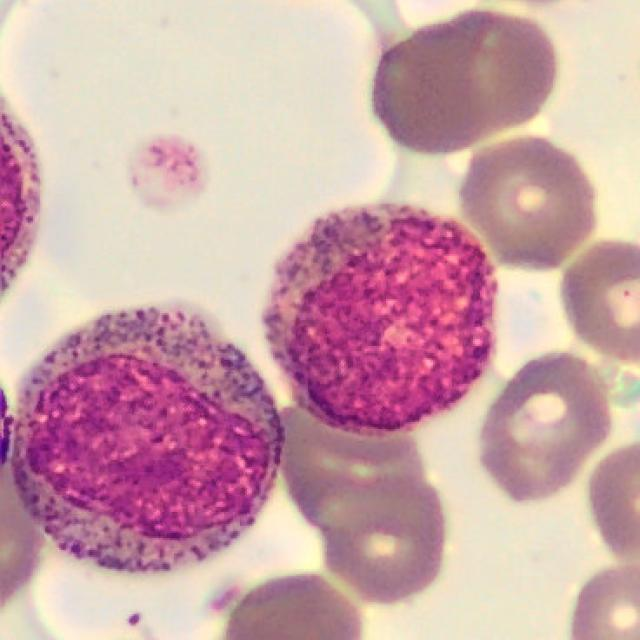Mielocito: (262, 201, 499, 443)
Promielocito: (12, 305, 284, 573)
